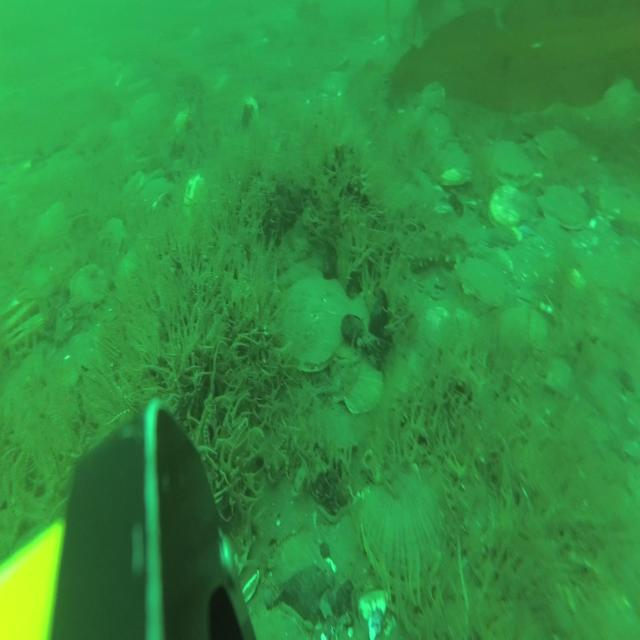scallop: (360, 474, 443, 587), (277, 271, 354, 376), (274, 527, 336, 603), (326, 509, 375, 600), (457, 251, 511, 315), (314, 388, 361, 454), (506, 299, 550, 360), (332, 295, 372, 360), (544, 177, 590, 231), (346, 356, 383, 422), (490, 134, 534, 185), (253, 599, 307, 640), (489, 184, 534, 230), (70, 264, 108, 312), (2, 315, 44, 358), (436, 142, 474, 189), (601, 184, 640, 229), (95, 214, 128, 264), (541, 125, 577, 167), (2, 302, 36, 337), (423, 107, 451, 146), (3, 287, 28, 321), (419, 79, 446, 109)
